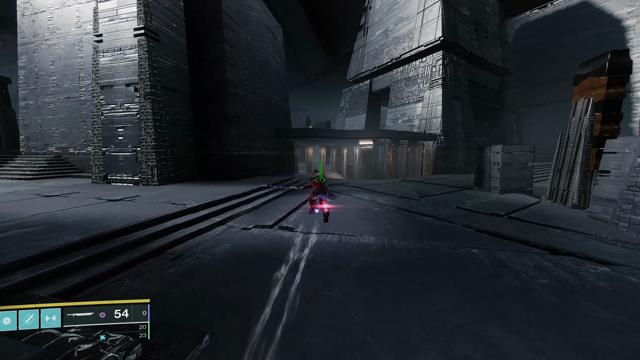kill: (387, 149, 392, 165)
